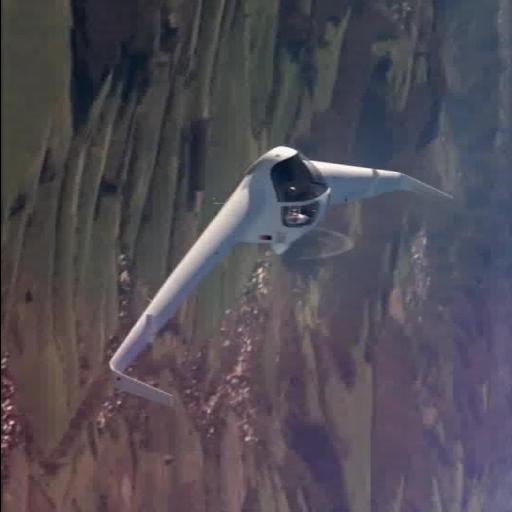uav: (89, 143, 465, 411)
